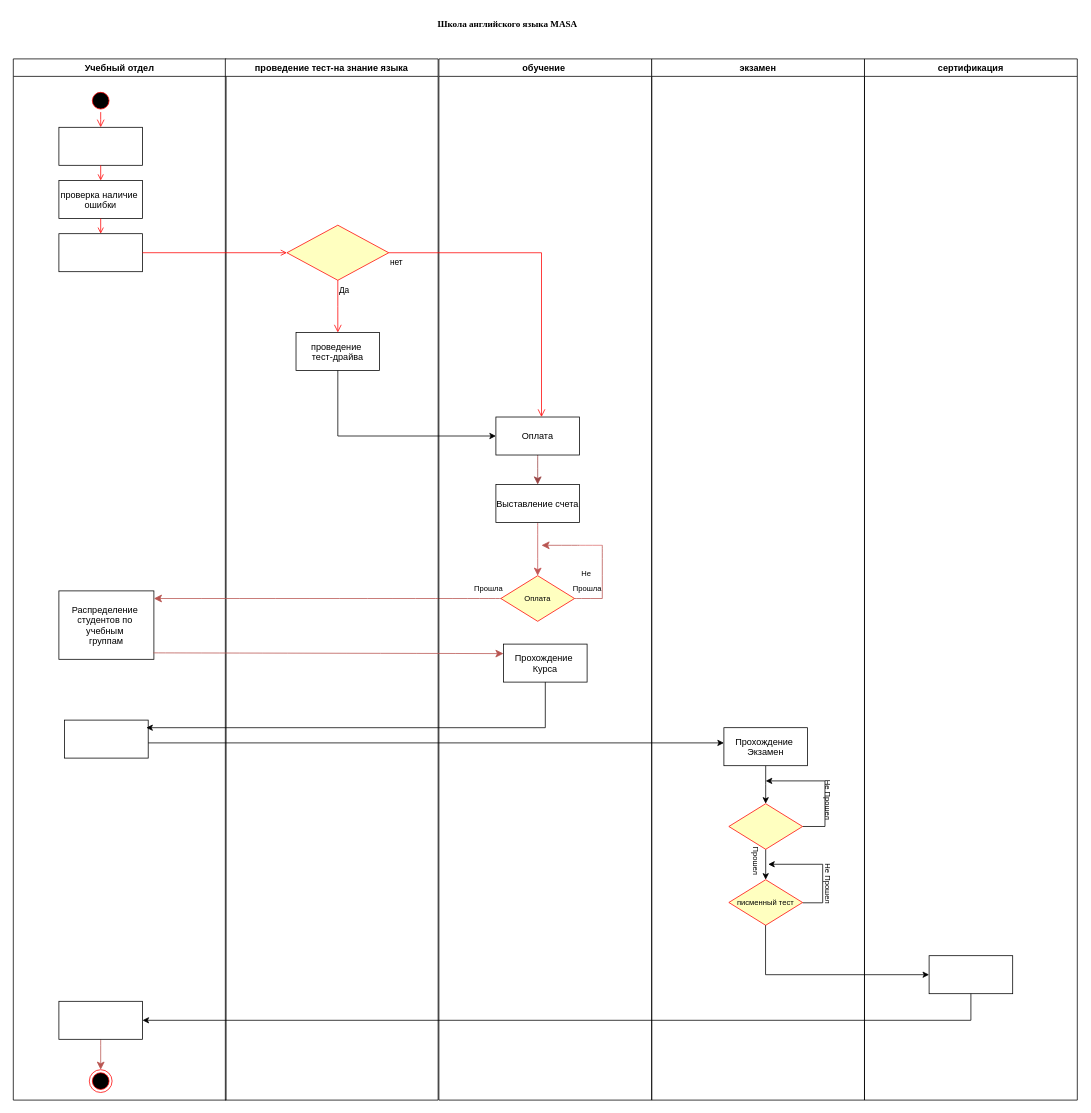
The diagram is 1091 pixels wide and 1113 high, and some of its shapes have lost their labels. The centre of each missing label's shape, as x and y in pixels:
Введение информции студентов: [100,146]
Вручение сертификат: [100,1020]
оформеление зачисление: [100,252]
планирование экзаменов: [106,738]
Получение сертификат: [970,974]
Тест языка: [337,252]
устный тест: [765,826]
